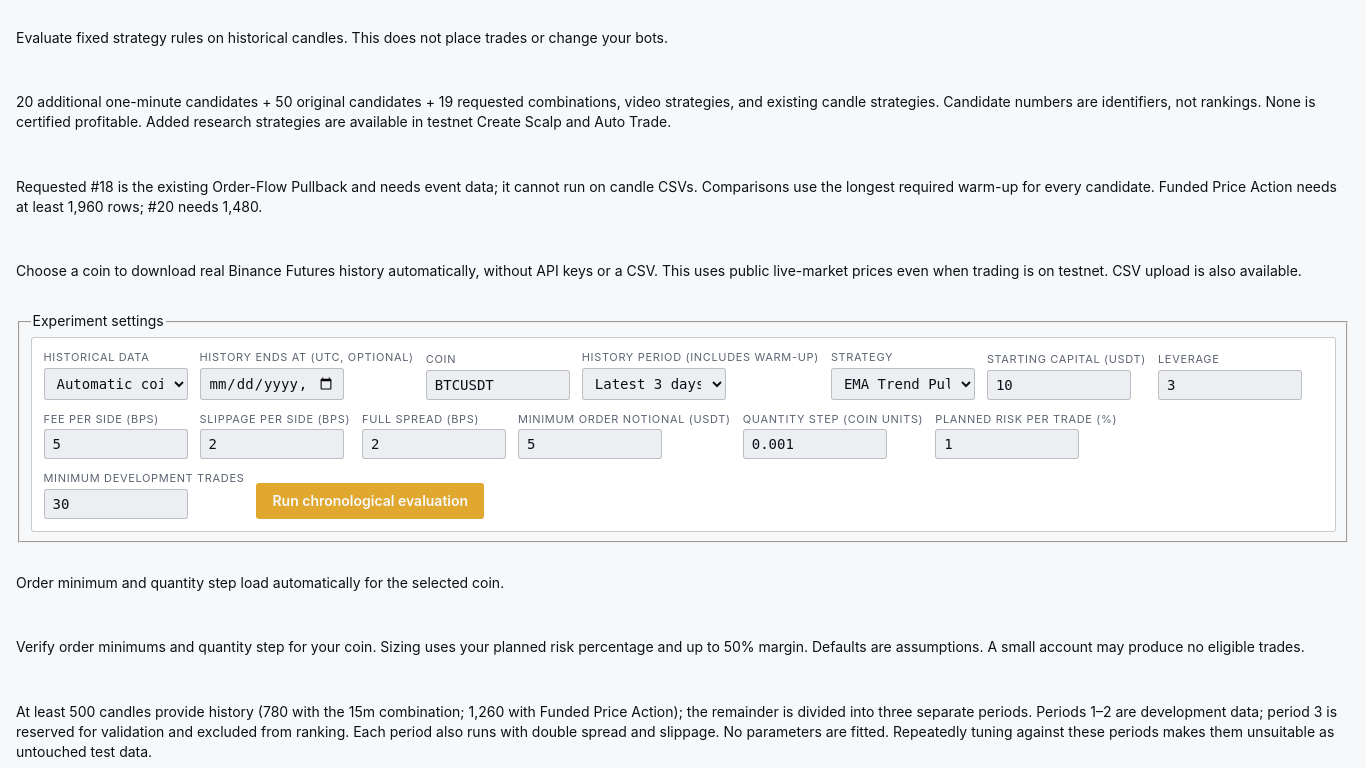
Test: downloads one coin once and reuses its candles and order filters for comparisons
(page scrolled)
Replace the text in the field labelled "Coin" with "ethusdt" at x=498, y=384, box [426, 370, 570, 400]
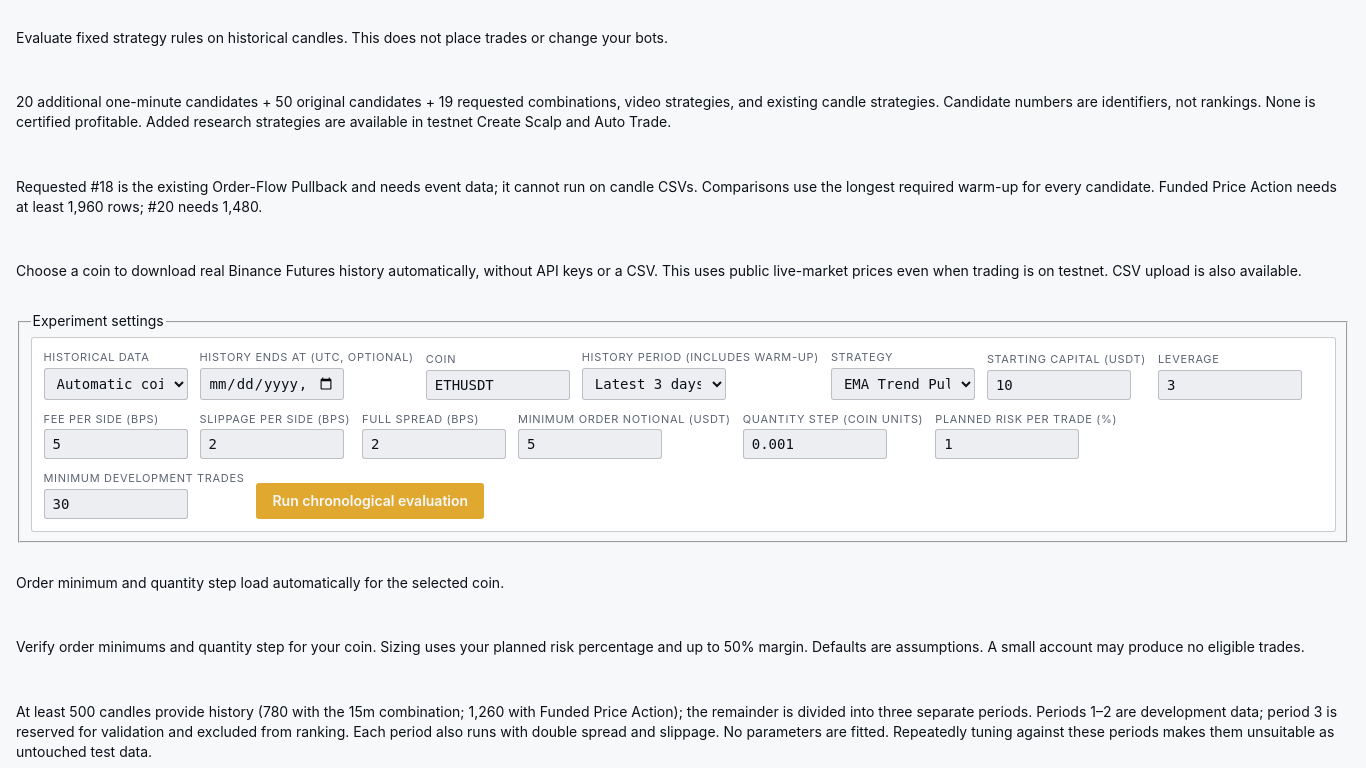
Select "Compare original 50 research candidates" in the dropdown labelled "Strategy" at x=903, y=384, box [831, 368, 975, 400]
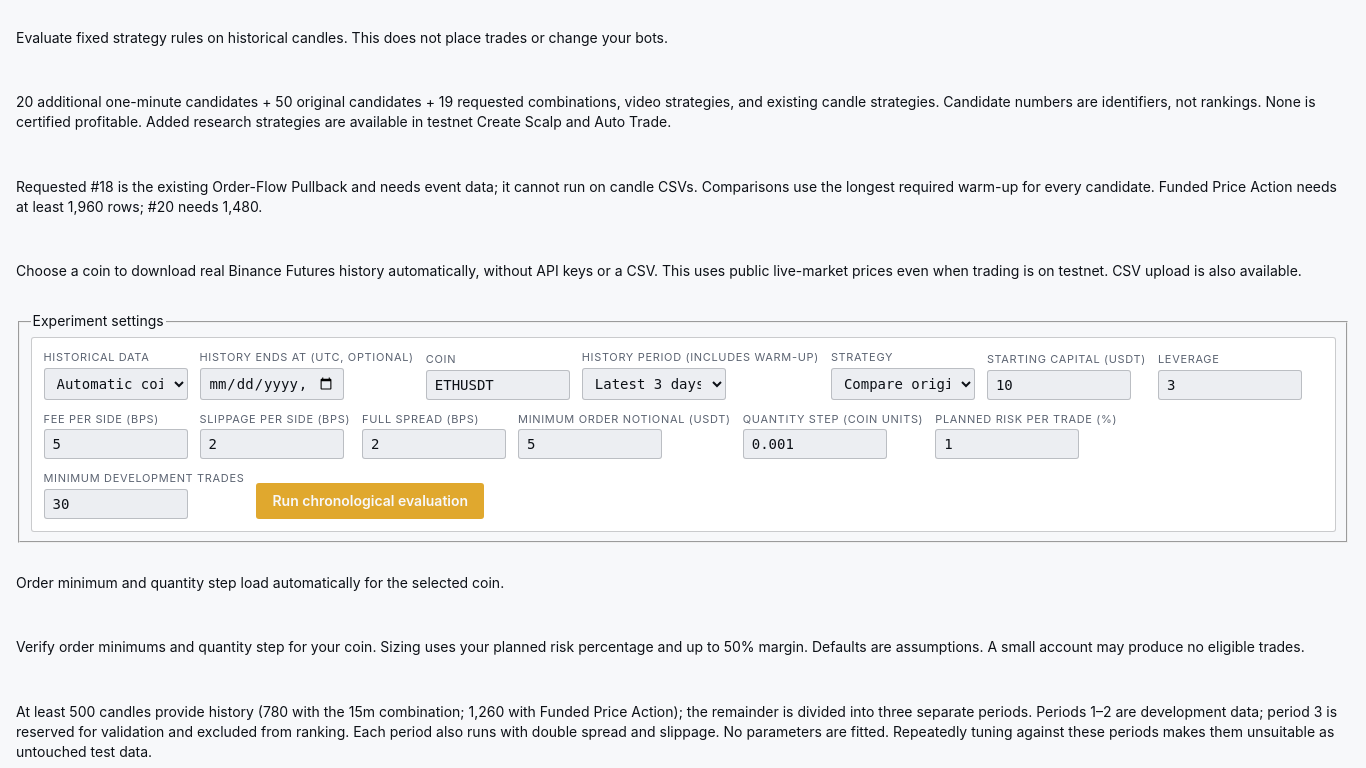
Submit the form named "Run chronological evaluation", box [16, 311, 1350, 543]
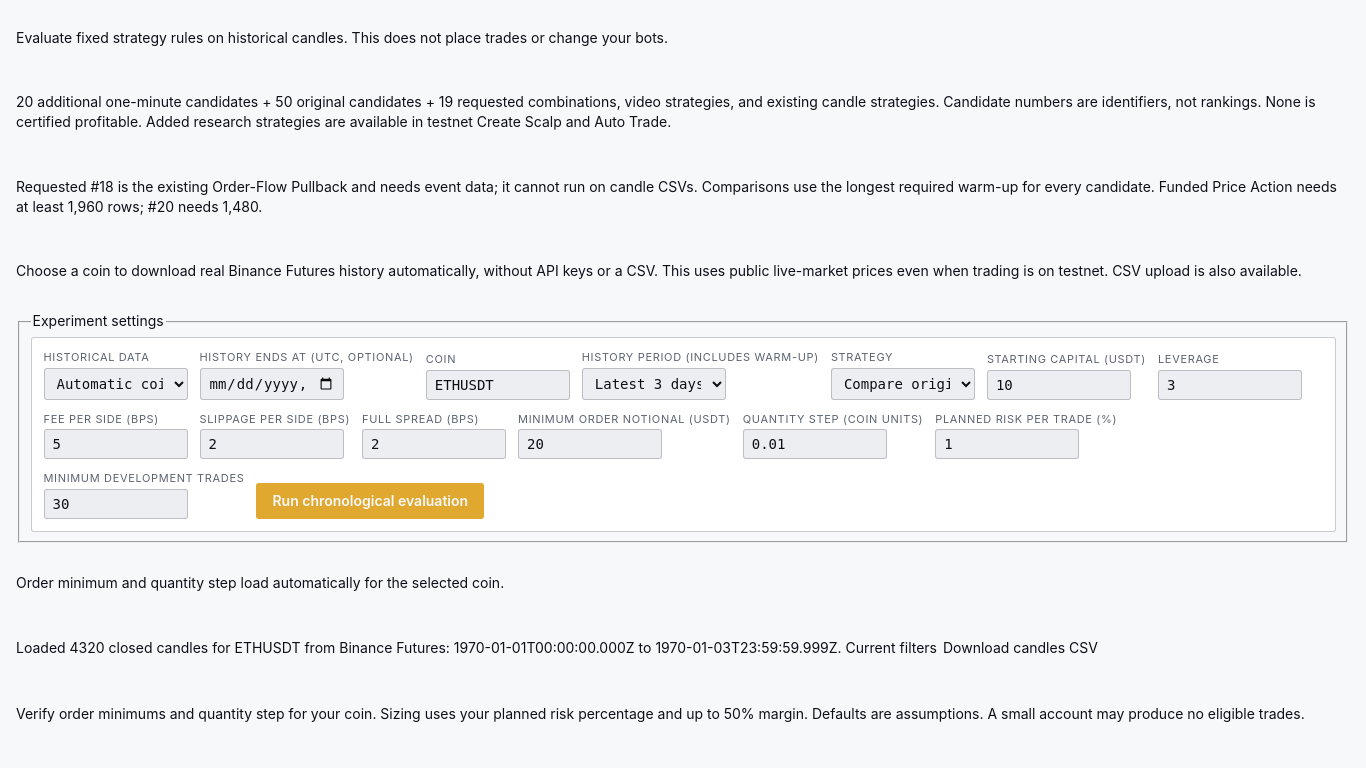
Expected: the button "Download candles CSV" is shown, [937, 638, 1104, 660]
